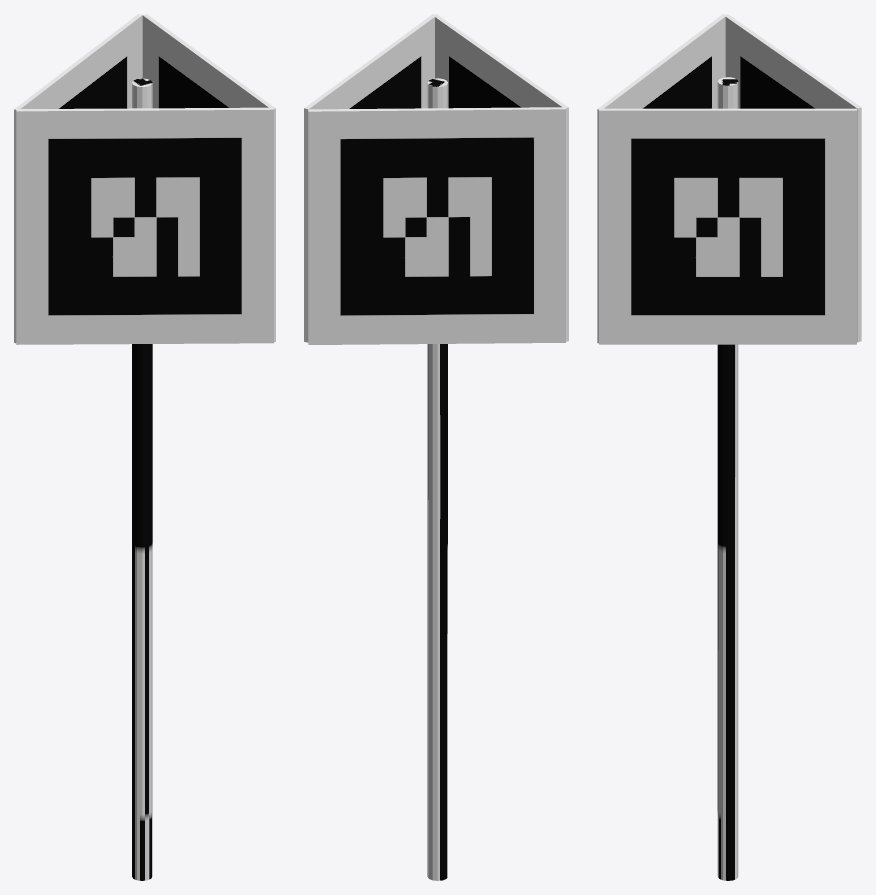
Rendered from Marker13.dae.
3 renders of one model, left to right at view 1: azimuth 30°, elevation 25°; view 2: azimuth 150°, elevation 25°; view 3: azimuth 270°, elevation 25°, orthographic.
Parts seen in each view (by area): view 1: Marker0; view 2: Marker0; view 3: Marker0.
Part boxes in pixels (bbox=[...]): Marker0: bbox=[14, 14, 275, 880]; Marker0: bbox=[304, 14, 568, 880]; Marker0: bbox=[597, 14, 861, 880].
Bounding box in the file's own units: 0.4433 × 0.5127 × 1.71.
